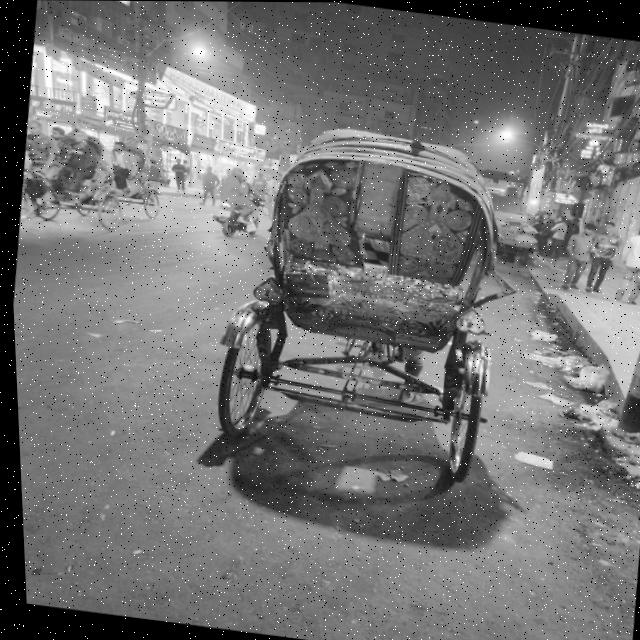rikshaw: (151, 87, 540, 518)
